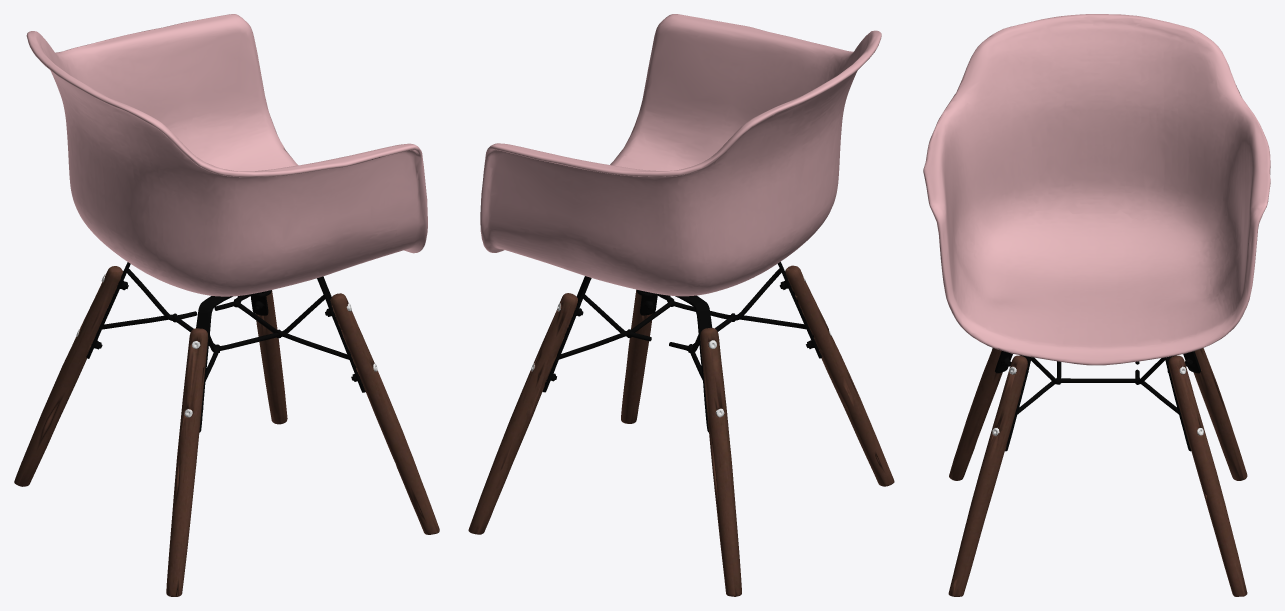
The model's file is ND-0608__Elon_Arms2.glb.
3 views of the same model, side by side, from view 1: azimuth 30°, elevation 25°; view 2: azimuth 150°, elevation 25°; view 3: azimuth 270°, elevation 25° (orthographic). The views are drawn at different scales.
Parts seen in each view (by area): view 1: tripo_node_b968e583-11d0-47e2-a982-90cddb693f50.002, tripo_node_b968e583-11d0-47e2-a982-90cddb693f50, tripo_node_b968e583-11d0-47e2-a982-90cddb693f50.003; view 2: tripo_node_b968e583-11d0-47e2-a982-90cddb693f50.002, tripo_node_b968e583-11d0-47e2-a982-90cddb693f50, tripo_node_b968e583-11d0-47e2-a982-90cddb693f50.003; view 3: tripo_node_b968e583-11d0-47e2-a982-90cddb693f50.002, tripo_node_b968e583-11d0-47e2-a982-90cddb693f50, tripo_node_b968e583-11d0-47e2-a982-90cddb693f50.003.
Boxes of the visible parts, x1=… form: tripo_node_b968e583-11d0-47e2-a982-90cddb693f50.002: x1=26, y1=14, x2=427, y2=296; tripo_node_b968e583-11d0-47e2-a982-90cddb693f50: x1=14, y1=266, x2=439, y2=596; tripo_node_b968e583-11d0-47e2-a982-90cddb693f50.003: x1=86, y1=262, x2=365, y2=432; tripo_node_b968e583-11d0-47e2-a982-90cddb693f50.002: x1=480, y1=14, x2=881, y2=296; tripo_node_b968e583-11d0-47e2-a982-90cddb693f50: x1=468, y1=265, x2=894, y2=596; tripo_node_b968e583-11d0-47e2-a982-90cddb693f50.003: x1=542, y1=262, x2=821, y2=432; tripo_node_b968e583-11d0-47e2-a982-90cddb693f50.002: x1=923, y1=14, x2=1270, y2=365; tripo_node_b968e583-11d0-47e2-a982-90cddb693f50: x1=948, y1=348, x2=1247, y2=596; tripo_node_b968e583-11d0-47e2-a982-90cddb693f50.003: x1=995, y1=351, x2=1200, y2=451.
Bounding box in the file's own units: 0.659 × 0.9799 × 0.6906.
4 materials, 1 textured.
